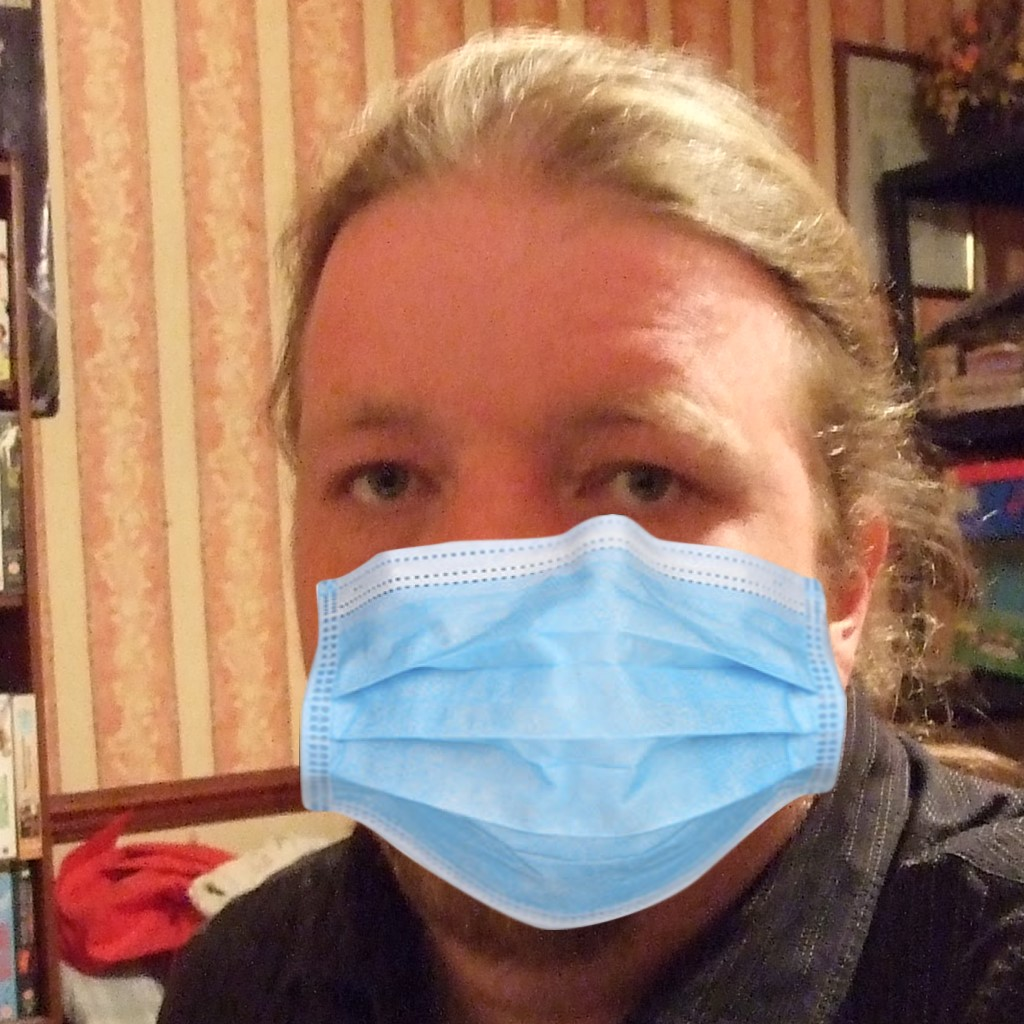con_mascara: (281, 108, 871, 907)
